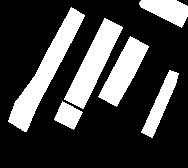parkingspot: (8, 7, 84, 131), (64, 18, 122, 108), (98, 36, 148, 106), (141, 70, 178, 137), (139, 0, 188, 27), (54, 101, 82, 129)
